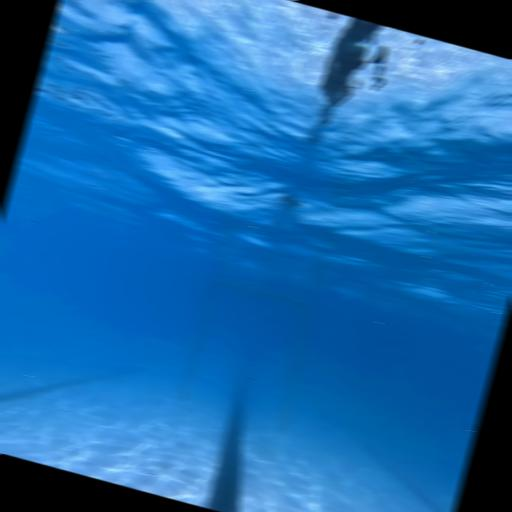gate: (177, 278, 318, 432)
